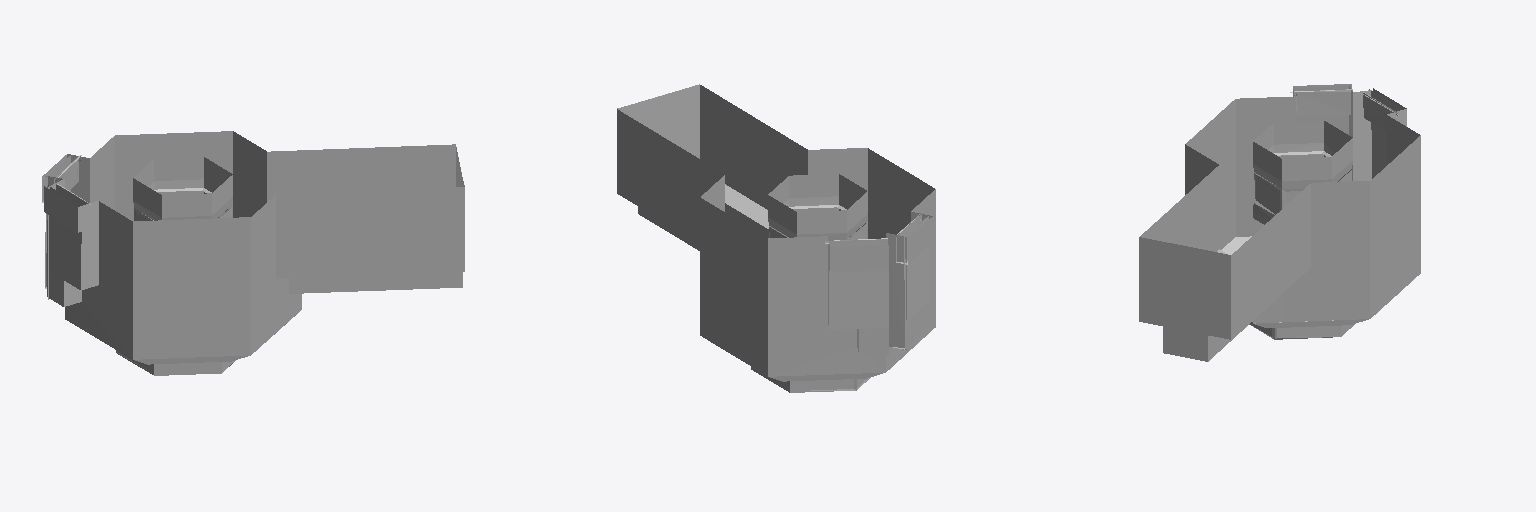
File: museumreflectie.obj
3 renders of one model, left to right at view 1: azimuth 30°, elevation 25°; view 2: azimuth 150°, elevation 25°; view 3: azimuth 270°, elevation 25°, orthographic.
Parts seen in each view (by area): view 1: display001; view 2: display001; view 3: display001.
Part boxes in pixels (bbox=[...]): display001: bbox=[42, 131, 464, 375]; display001: bbox=[617, 84, 935, 392]; display001: bbox=[1139, 84, 1420, 361].
Bounding box in the file's own units: 10.24 × 4.9 × 7.1.